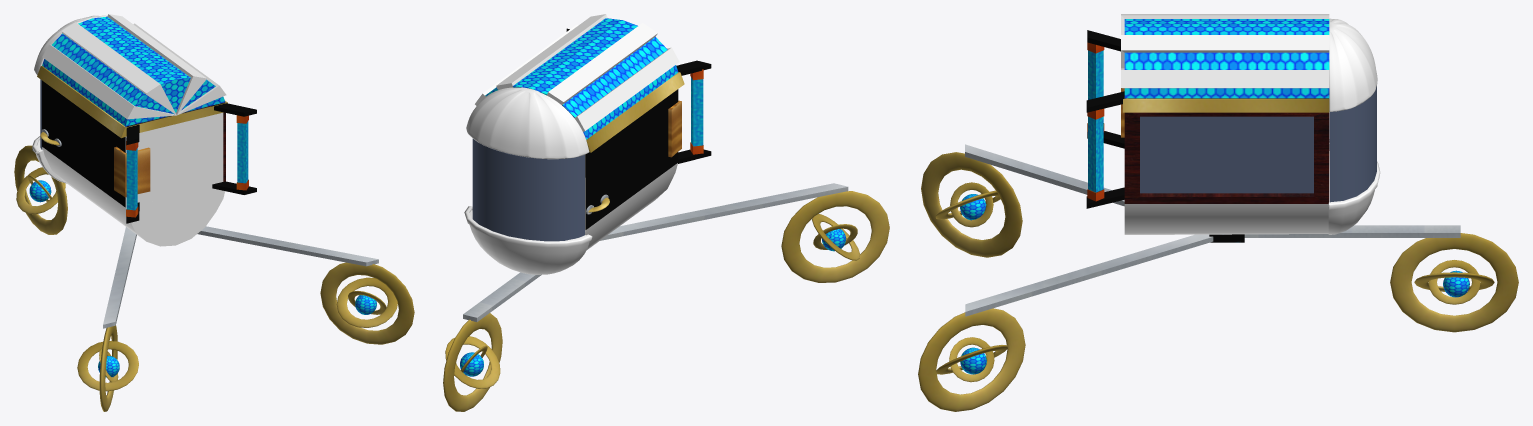
The model's file is Land.obj.
The picture shows the model from 3 angles, left to right: view 1: azimuth 30°, elevation 25°; view 2: azimuth 150°, elevation 25°; view 3: azimuth 270°, elevation 25°; orthographic projection. The views are drawn at different scales.
Visible parts, largest first — view 1: Body, Body Top, Body Right_Wheel_Core Right_Wheel_3rd_Ring, Body Main_Shaft, Body Front_Wheel_Core Front_Wheel_3rd_Ring, Body Right_Wheel_Core Right_Wheel_2nd_Ring, Body Left_Wheel_Core Left_Wheel_2nd_Ring, Body Main_Shaft Left_Shaft, Body Door_Bracket, Body Right_Lamp, Body Left_Lamp, Body Left_Wheel_Core Left_Wheel_3rd_Ring (+4 smaller); view 2: Body Top, Body, Body Driver_WIndow, Body Driver_WIndow Driver_Window_Top, Body Left_Wheel_Core Left_Wheel_3rd_Ring, Body Driver_WIndow Driver_WIndow_btm, Body Main_Shaft Left_Shaft, Body Front_Wheel_Core Front_Wheel_3rd_Ring, Body Main_Shaft, Body Left_Lamp, Body Front_Wheel_Core Front_Wheel_2nd_Ring, Body Door_Bracket (+3 smaller); view 3: Body, Body Top, Body Front_Wheel_Core Front_Wheel_3rd_Ring, Body Main_Shaft, Body Right_Wheel_Core Right_Wheel_3rd_Ring, Body Left_Wheel_Core Left_Wheel_3rd_Ring, Body Driver_WIndow, Body Driver_WIndow Driver_Window_Top, Body Main_Shaft Left_Shaft, Body Right_Lamp, Body Driver_WIndow Driver_WIndow_btm, Body Front_Wheel_Core Front_Wheel_1st_Ring (+4 smaller).
Boxes of the visible parts, box(x1,y1,x2,y2) form: Body: box(37, 66, 227, 246); Body Top: box(42, 14, 226, 126); Body Right_Wheel_Core Right_Wheel_3rd_Ring: box(320, 262, 414, 344); Body Main_Shaft: box(32, 148, 378, 266); Body Front_Wheel_Core Front_Wheel_3rd_Ring: box(14, 145, 67, 234); Body Right_Wheel_Core Right_Wheel_2nd_Ring: box(336, 277, 397, 327); Body Left_Wheel_Core Left_Wheel_2nd_Ring: box(77, 341, 138, 391); Body Main_Shaft Left_Shaft: box(103, 227, 136, 328); Body Door_Bracket: box(114, 146, 150, 197); Body Right_Lamp: box(236, 115, 248, 190); Body Left_Lamp: box(126, 141, 138, 217); Body Left_Wheel_Core Left_Wheel_3rd_Ring: box(99, 325, 117, 411); Body Top: box(475, 14, 679, 139); Body: box(491, 72, 684, 250); Body Driver_WIndow: box(472, 139, 584, 241); Body Driver_WIndow Driver_Window_Top: box(466, 87, 589, 159); Body Left_Wheel_Core Left_Wheel_3rd_Ring: box(781, 191, 889, 282); Body Driver_WIndow Driver_WIndow_btm: box(464, 206, 592, 274); Body Main_Shaft Left_Shaft: box(600, 183, 848, 240); Body Front_Wheel_Core Front_Wheel_3rd_Ring: box(443, 313, 502, 411); Body Main_Shaft: box(463, 272, 541, 321); Body Left_Lamp: box(690, 69, 703, 154); Body Front_Wheel_Core Front_Wheel_2nd_Ring: box(445, 336, 500, 388); Body Door_Bracket: box(668, 100, 681, 157); Body: box(1123, 98, 1329, 234); Body Top: box(1121, 14, 1329, 98); Body Front_Wheel_Core Front_Wheel_3rd_Ring: box(1390, 233, 1518, 332); Body Main_Shaft: box(965, 225, 1460, 316); Body Right_Wheel_Core Right_Wheel_3rd_Ring: box(918, 308, 1025, 411); Body Left_Wheel_Core Left_Wheel_3rd_Ring: box(921, 152, 1022, 257); Body Driver_WIndow: box(1329, 86, 1376, 202); Body Driver_WIndow Driver_Window_Top: box(1329, 18, 1377, 111); Body Main_Shaft Left_Shaft: box(965, 144, 1124, 206); Body Right_Lamp: box(1087, 108, 1104, 201); Body Driver_WIndow Driver_WIndow_btm: box(1328, 139, 1380, 234); Body Front_Wheel_Core Front_Wheel_1st_Ring: box(1428, 260, 1480, 304).
Bounding box in the file's own units: 12.45 × 9.52 × 16.89.
Materials: 1 (1 with a texture image).
